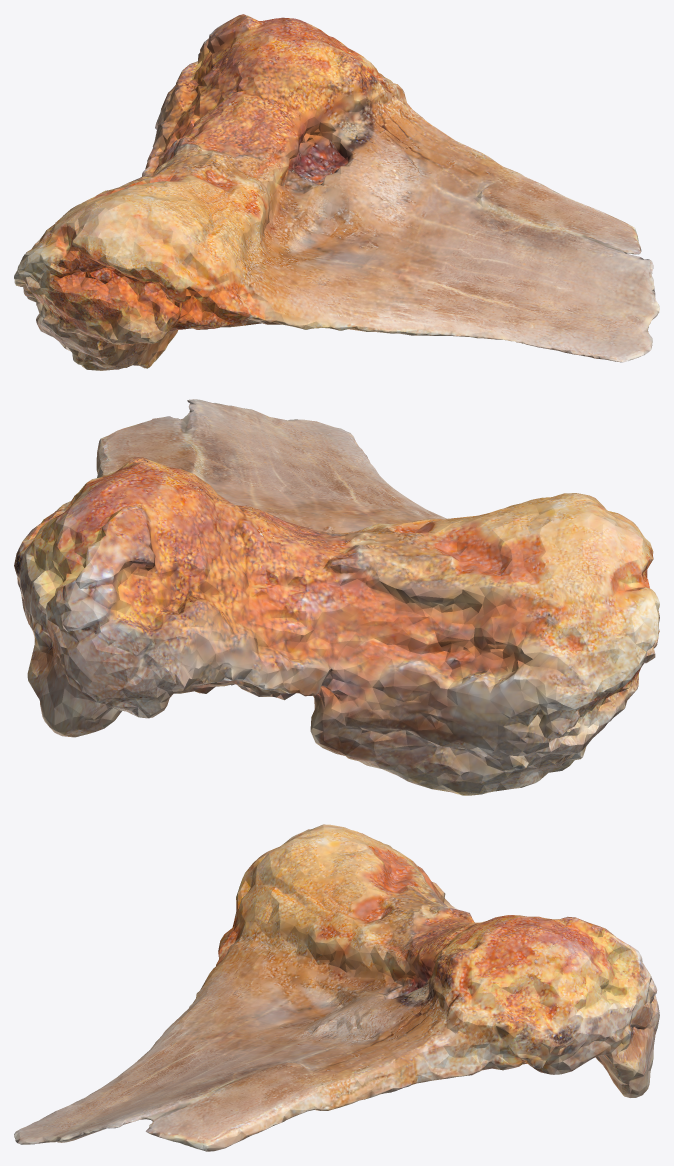
Rendered from _trex_astragalus.gltf.
3 views of the same model, one above another, from view 1: azimuth 30°, elevation 25°; view 2: azimuth 150°, elevation 25°; view 3: azimuth 270°, elevation 25° (orthographic). The views are drawn at different scales.
Parts seen in each view (by area): view 1: trexAstragalus_7500; view 2: trexAstragalus_7500; view 3: trexAstragalus_7500.
Boxes of the visible parts, box(x1,y1,x2,y2) form: trexAstragalus_7500: box(14, 14, 659, 370); trexAstragalus_7500: box(14, 399, 659, 795); trexAstragalus_7500: box(14, 824, 659, 1151).
Bounding box in the file's own units: 0.3804 × 0.1623 × 0.3948.
1 material, 1 textured.
